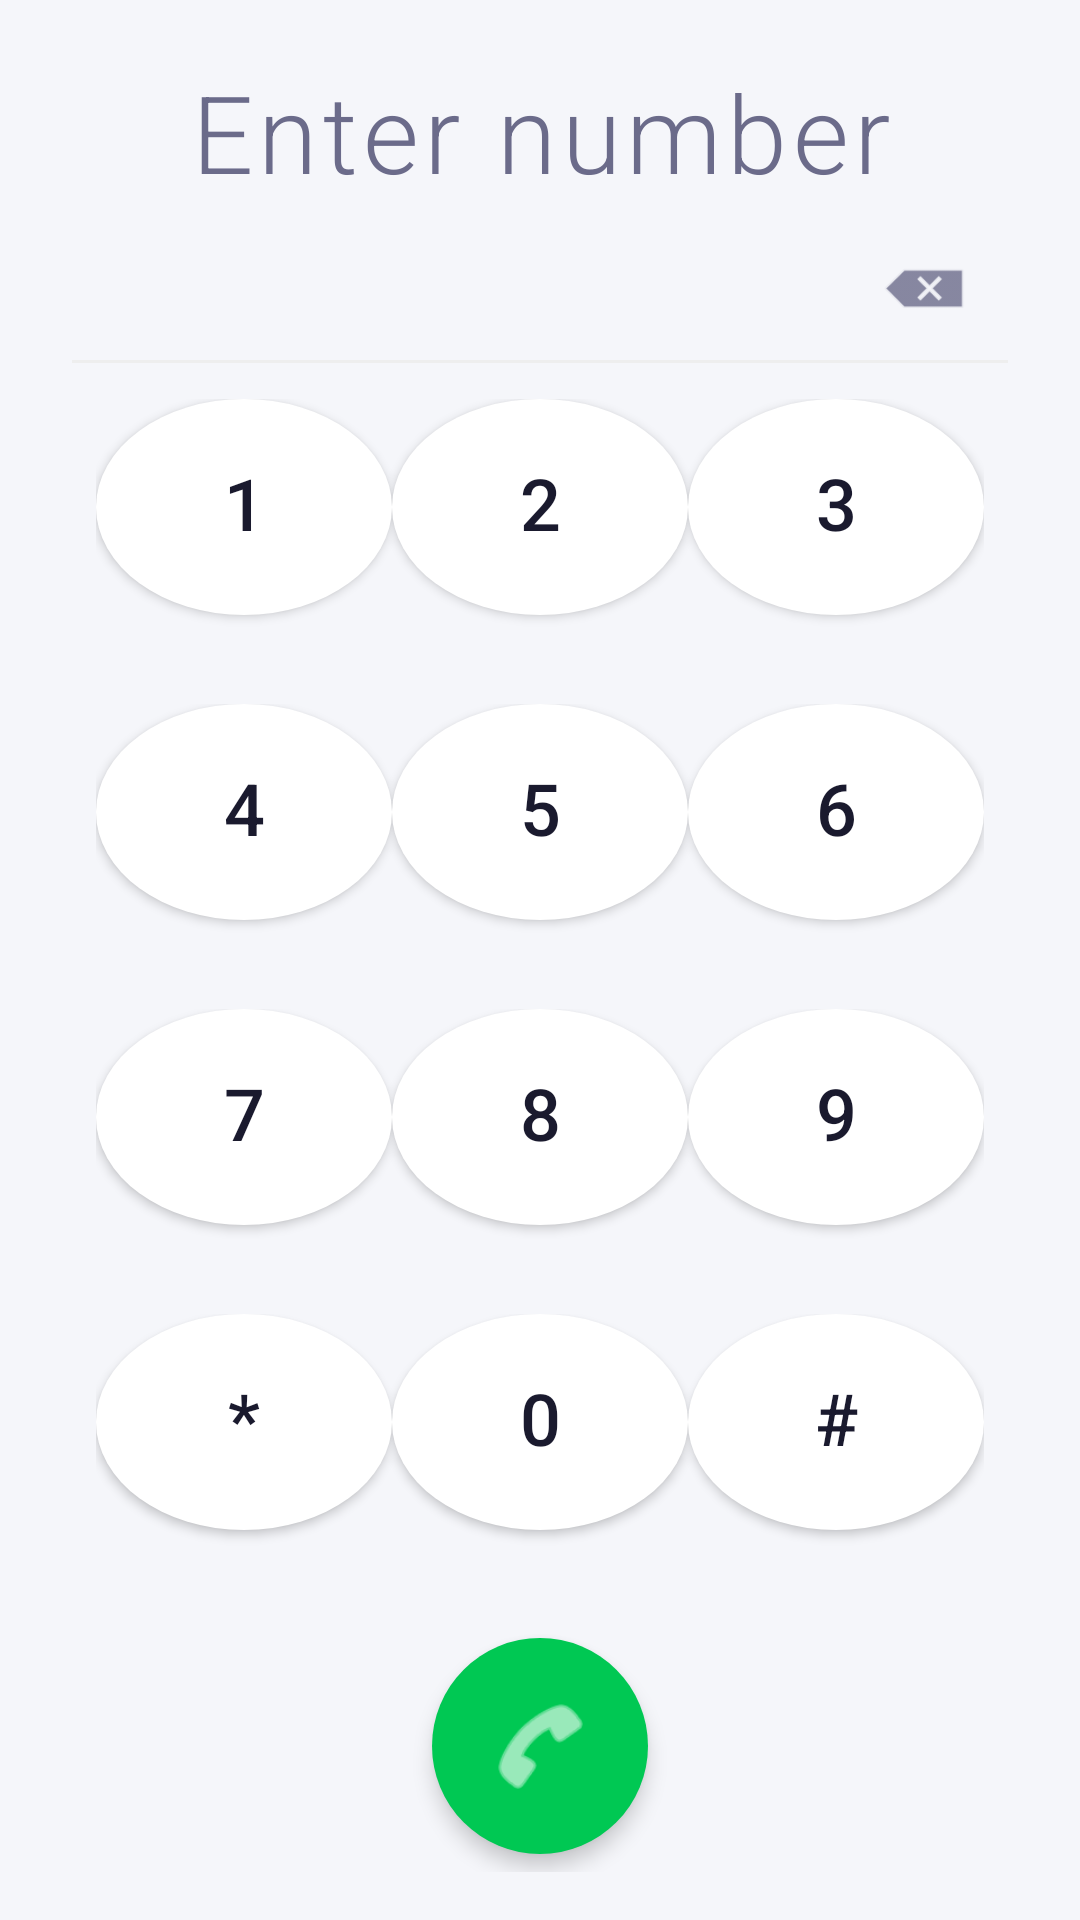

Locate icon controls on the screen. Image size 1080 x 1920, boxes as (x1, y1, x2, y2).
call: (432, 1638, 648, 1854)
delete: (886, 270, 963, 307)
